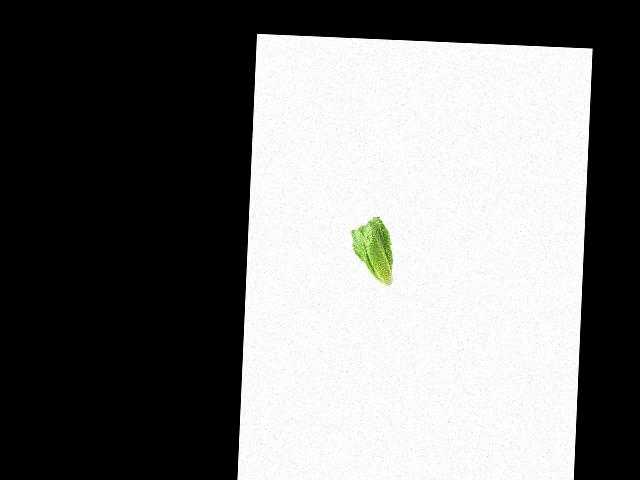lettuce: (347, 215, 396, 292)
